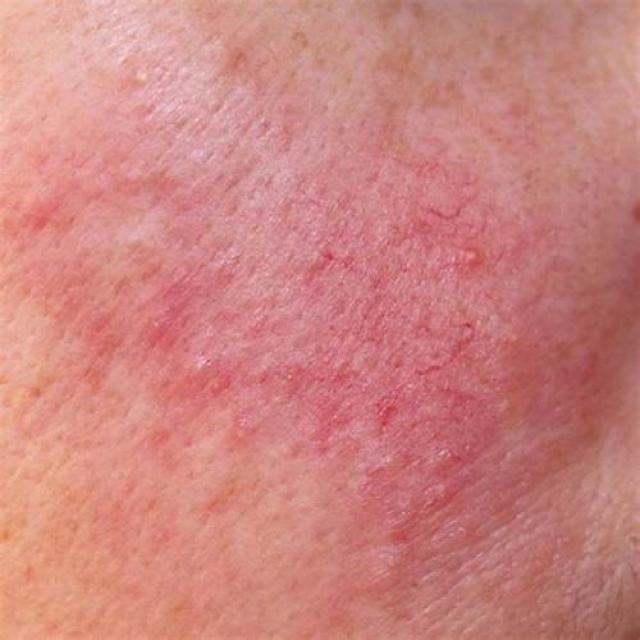Rosacea: (19, 44, 502, 518)
